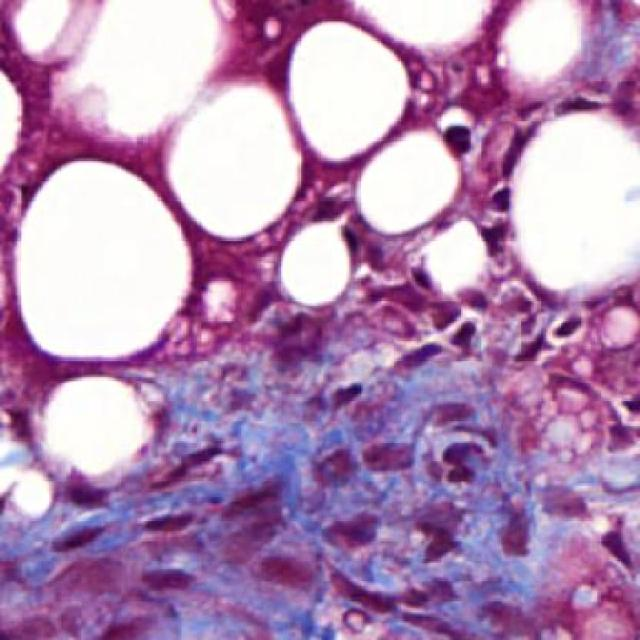steatosis: (18, 162, 192, 364), (278, 11, 426, 168), (356, 136, 468, 238)
